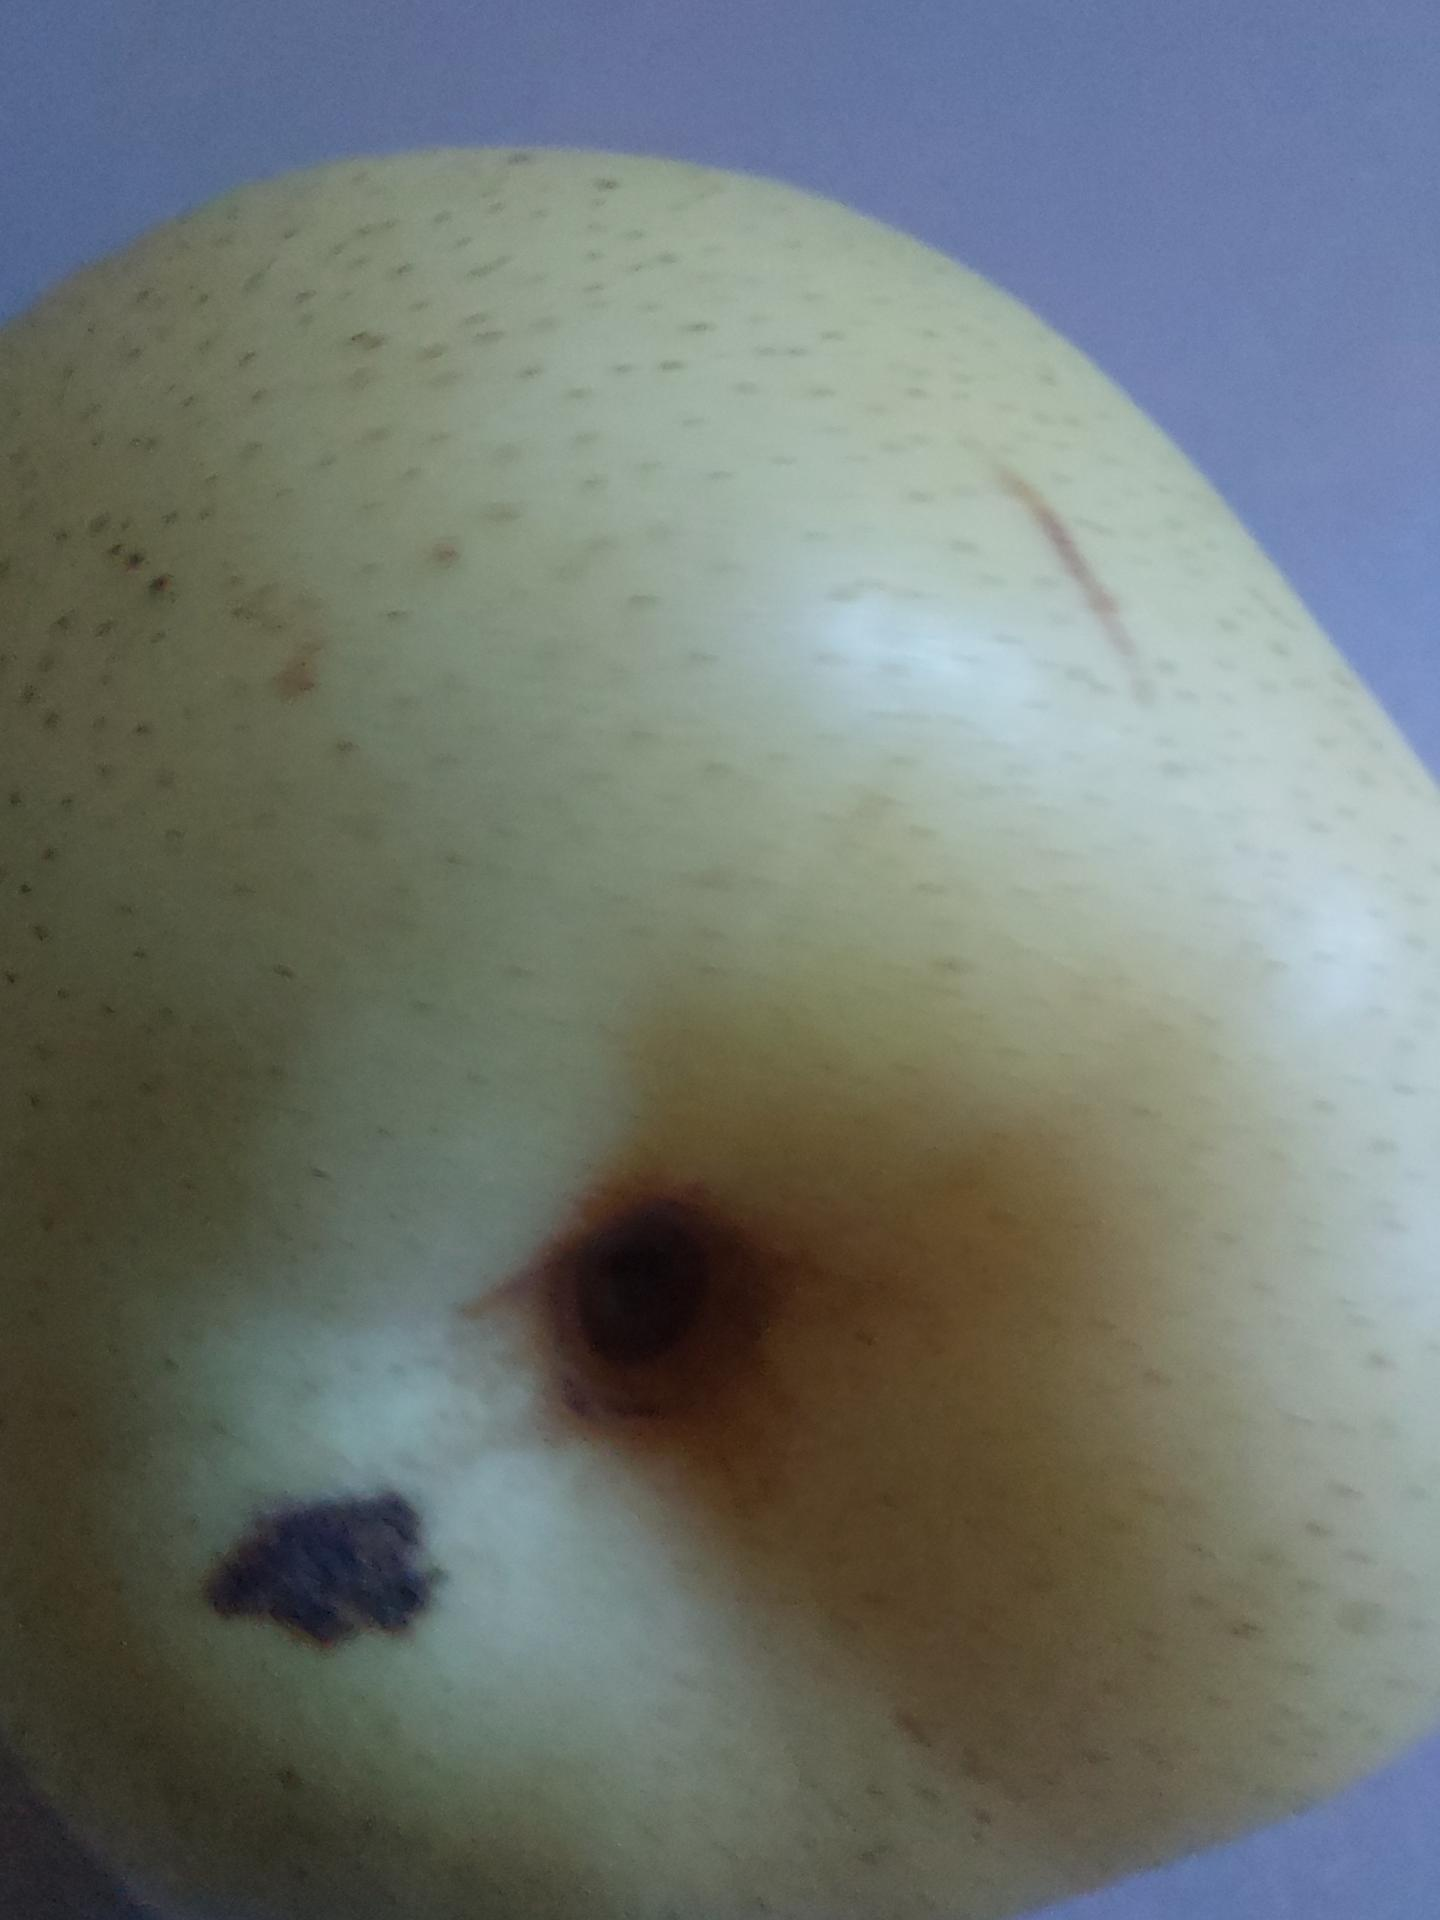Good Pear: (0, 101, 1440, 1920)
